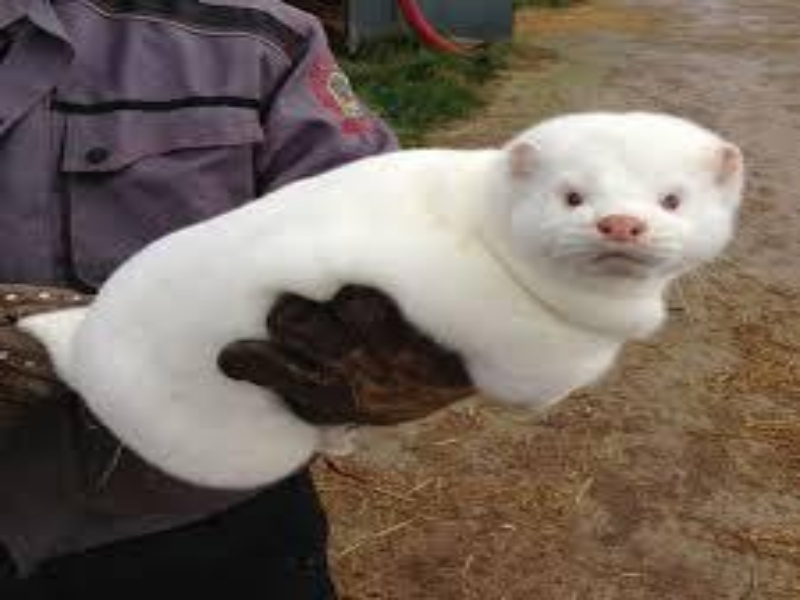minkish: (29, 109, 748, 489)
